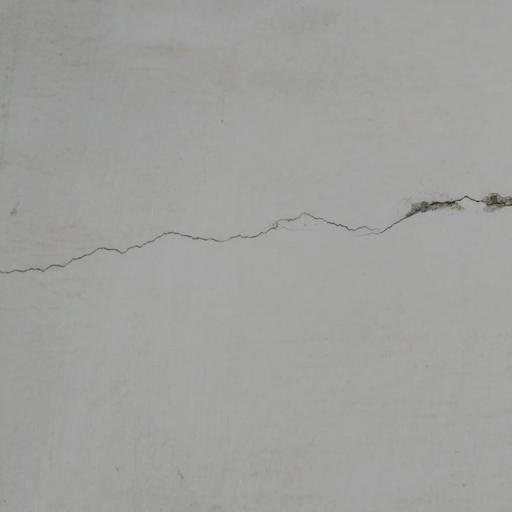major_crack: (0, 182, 512, 282)
